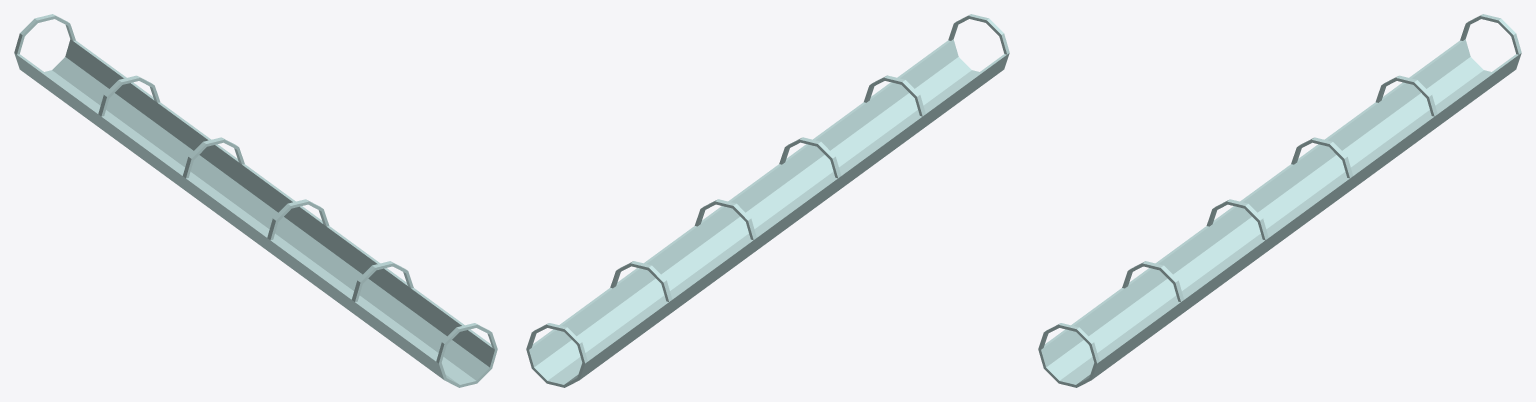
Rendered from tubeSky.glb.
3 views of the same model, side by side, from view 1: azimuth 30°, elevation 25°; view 2: azimuth 150°, elevation 25°; view 3: azimuth 330°, elevation 25° (orthographic).
Parts seen in each view (by area): view 1: Cylinder; view 2: Cylinder; view 3: Cylinder.
Part boxes in pixels (x1,y1,x2,y2): Cylinder: [14, 14, 497, 387]; Cylinder: [526, 14, 1009, 387]; Cylinder: [1038, 14, 1521, 387].
Size of the model in its own units: 8 by 7.61 by 99.71.
